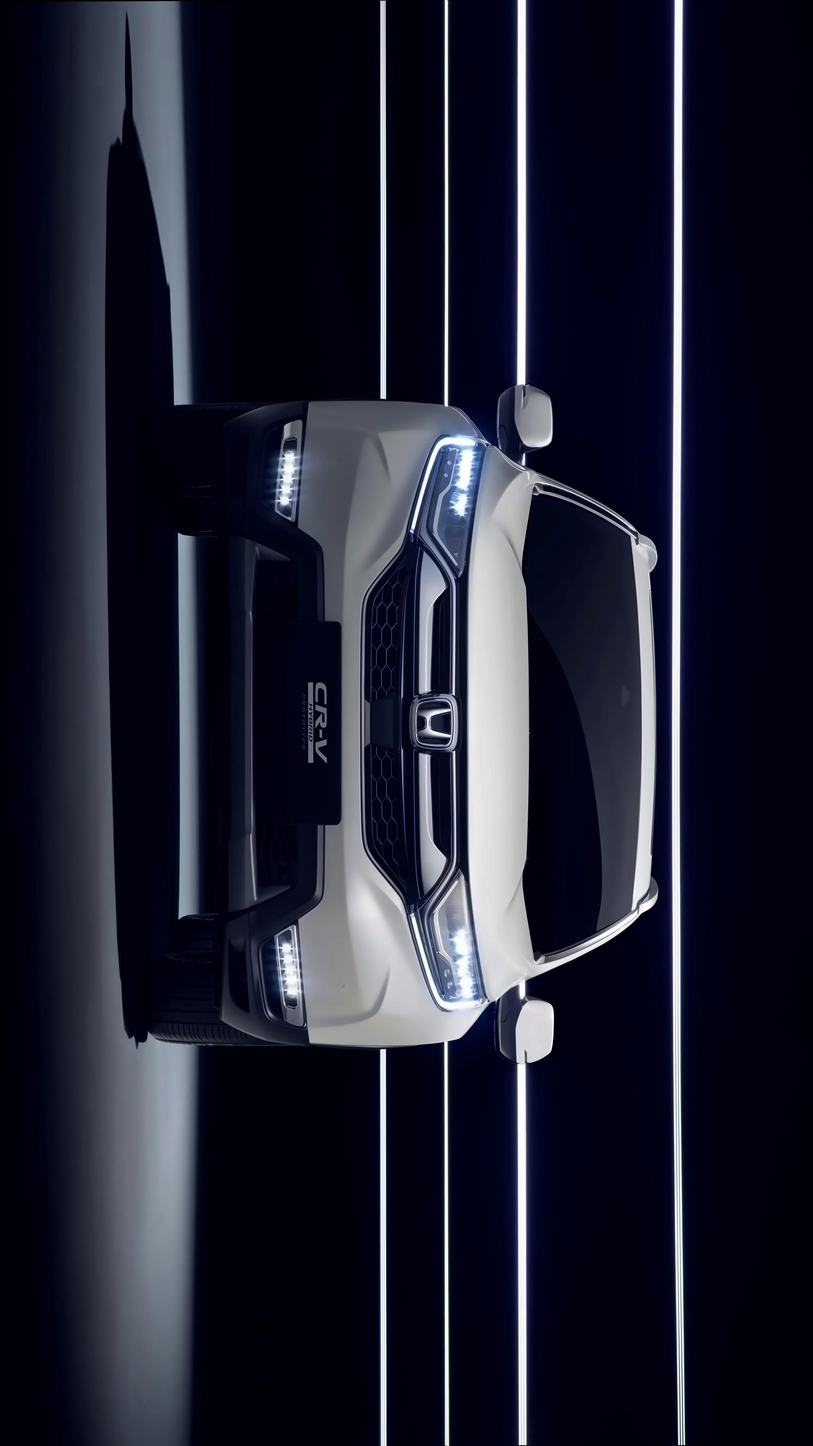Car hood: (450, 427, 545, 1009)
Front bumper: (191, 389, 426, 1054)
Headlight - -L-: (402, 860, 492, 1015)
Headlight - -R-: (406, 434, 493, 588)
Side mirror - -L-: (489, 978, 559, 1071)
Side mirror - -R-: (485, 383, 569, 466)
